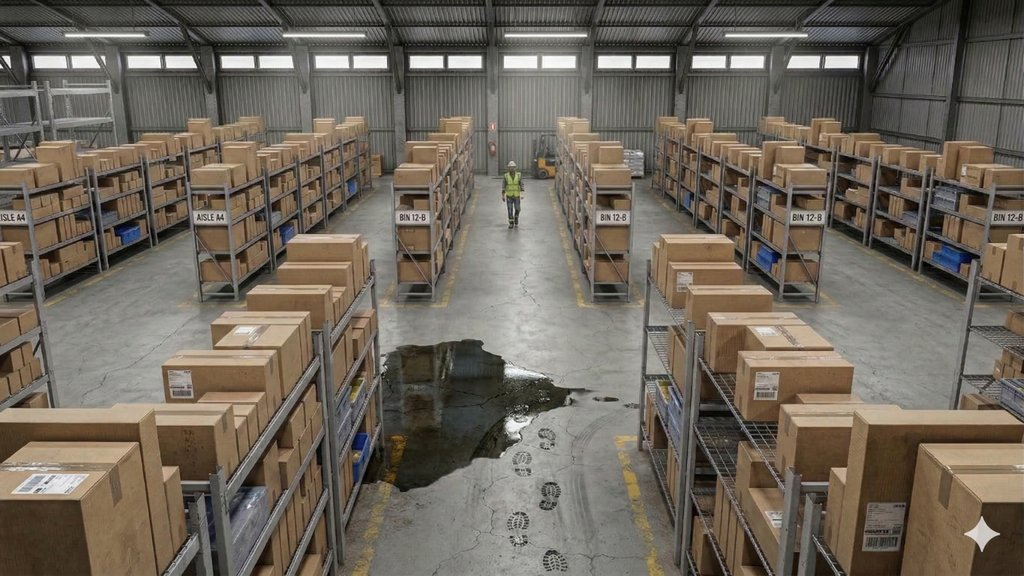empty_shelf: (2, 71, 112, 135), (704, 377, 740, 480)
person: (495, 151, 546, 241)
safety_helmet: (502, 156, 521, 167)
safety_vest: (503, 170, 523, 211)
spill: (367, 337, 583, 537)
